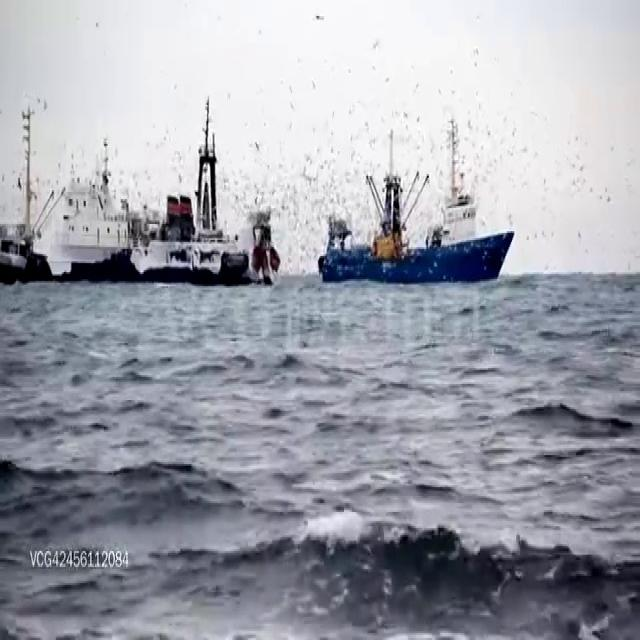houseboat: (318, 138, 508, 291), (77, 145, 265, 281), (22, 122, 161, 264)
